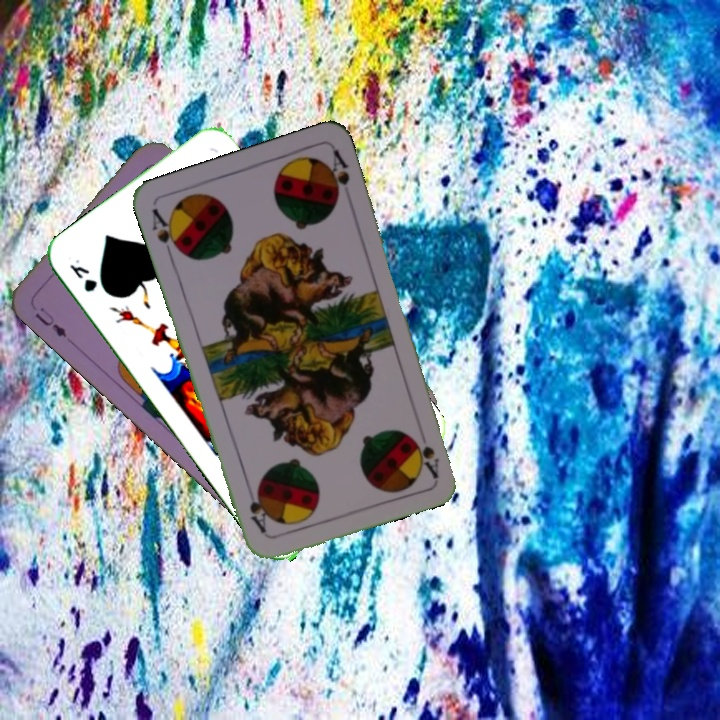EU: (30, 303, 69, 340)
GK: (65, 255, 100, 295)
SA: (148, 204, 185, 262), (414, 422, 442, 480)
